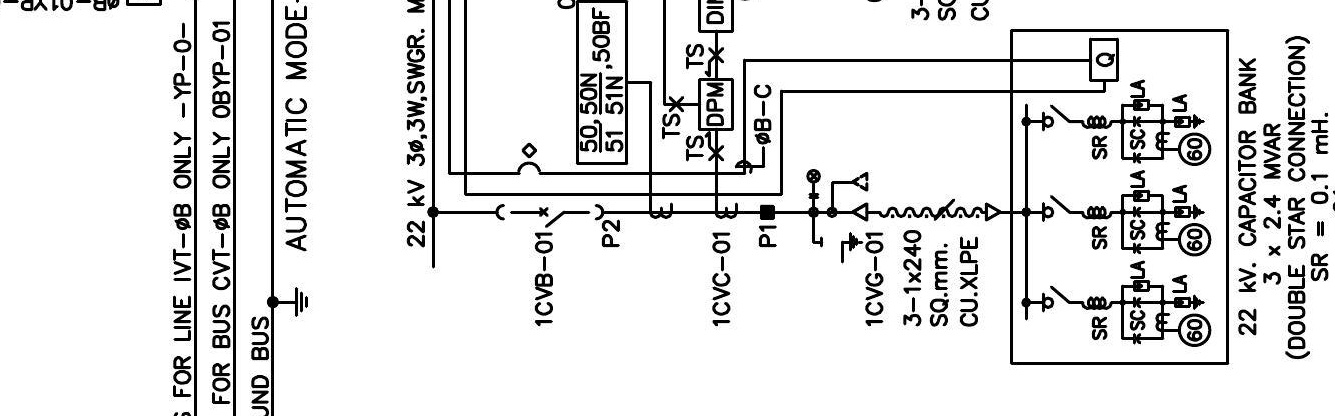22_breaker: (495, 203, 605, 229)
22_cap_bank: (1009, 28, 1230, 366)
22_gs: (819, 231, 864, 265)
22_ll: (805, 168, 822, 200)
DPM: (697, 77, 735, 132)
Q: (1089, 37, 1120, 83)
terminator_single: (984, 201, 1002, 222)
terminator_w_future: (830, 171, 869, 223)
